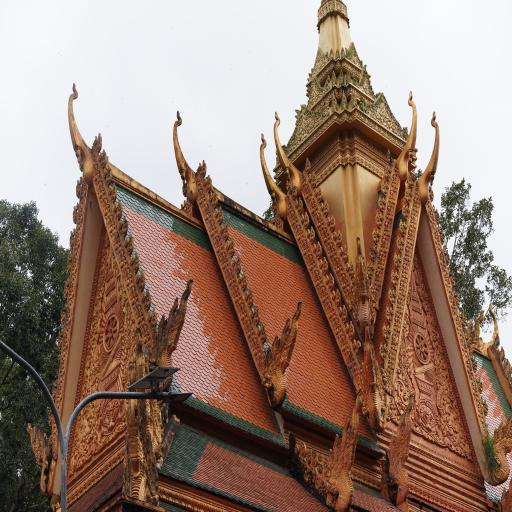lua: (161, 106, 204, 218), (61, 76, 96, 186), (268, 111, 307, 200), (256, 132, 286, 218), (418, 109, 444, 206), (395, 91, 420, 179), (483, 298, 503, 359), (140, 286, 154, 310), (391, 252, 406, 274), (133, 269, 145, 296), (147, 306, 160, 330), (403, 185, 418, 205), (122, 232, 136, 253), (324, 269, 336, 293), (388, 267, 400, 291), (286, 178, 297, 204), (116, 214, 128, 237), (218, 219, 230, 242), (212, 203, 225, 224), (236, 269, 249, 290), (376, 341, 390, 360), (129, 249, 140, 273), (249, 303, 261, 325), (317, 256, 329, 278), (386, 284, 397, 308), (397, 218, 410, 238), (364, 257, 375, 280), (374, 206, 384, 231), (405, 170, 418, 189), (49, 380, 60, 402), (371, 226, 382, 248), (380, 321, 391, 343), (68, 225, 78, 249), (196, 158, 208, 178), (384, 304, 396, 324), (111, 198, 122, 219), (312, 239, 323, 260), (325, 212, 336, 233), (231, 253, 241, 276), (299, 209, 309, 232), (375, 192, 385, 215), (380, 177, 390, 200), (383, 161, 393, 184), (337, 244, 349, 263), (399, 203, 412, 220), (102, 166, 112, 188), (106, 182, 117, 202), (243, 288, 254, 308), (256, 320, 266, 342), (338, 302, 348, 324), (71, 202, 80, 226), (330, 228, 342, 246), (495, 341, 504, 365), (332, 289, 342, 310), (314, 183, 324, 204), (344, 259, 354, 280), (384, 145, 394, 166), (435, 227, 445, 248), (458, 309, 468, 330), (207, 188, 218, 207), (98, 148, 107, 171), (73, 176, 83, 196), (225, 238, 235, 258), (474, 376, 484, 396), (202, 174, 213, 192), (431, 202, 440, 224), (441, 248, 450, 270), (396, 234, 404, 258), (353, 335, 362, 356), (58, 310, 68, 328), (307, 166, 316, 186), (320, 199, 329, 219), (446, 268, 455, 288), (62, 279, 70, 301), (478, 398, 489, 414), (424, 184, 434, 201), (295, 195, 303, 216), (346, 320, 354, 341), (369, 242, 378, 260), (56, 328, 64, 348), (64, 253, 72, 273), (94, 132, 102, 152), (302, 154, 310, 174), (471, 351, 477, 374), (452, 288, 460, 305), (307, 225, 314, 244), (502, 356, 509, 375), (493, 332, 499, 349)
ran: (297, 394, 369, 512), (118, 360, 166, 512), (145, 278, 200, 396), (378, 391, 426, 508), (259, 297, 306, 409), (349, 322, 391, 431), (347, 234, 380, 328), (482, 390, 512, 488), (25, 416, 53, 496), (462, 302, 485, 366), (495, 472, 512, 512), (350, 87, 358, 112), (340, 90, 348, 112), (330, 70, 338, 88), (332, 90, 338, 114), (338, 68, 345, 86), (345, 68, 351, 86), (328, 47, 335, 62), (340, 45, 346, 61), (334, 47, 340, 61)
